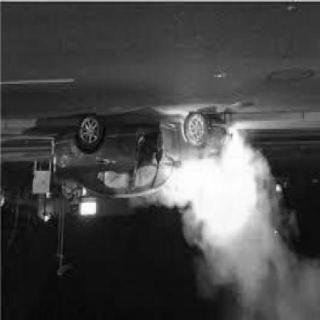Fire: (172, 154, 248, 212)
Smoke: (148, 149, 320, 315)
